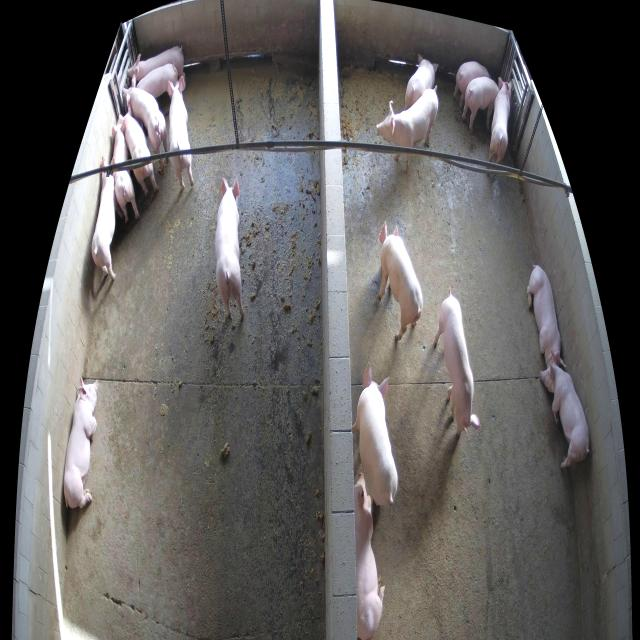pig: (433, 288, 480, 436), (352, 364, 398, 506), (540, 352, 590, 468), (376, 86, 438, 174), (378, 221, 423, 341), (354, 472, 385, 638), (64, 377, 98, 508), (123, 74, 168, 168), (216, 178, 245, 317), (527, 265, 566, 368), (92, 157, 124, 280), (119, 100, 158, 196), (168, 76, 194, 191), (112, 119, 139, 223), (128, 46, 186, 91), (488, 77, 512, 164), (462, 76, 499, 131), (404, 53, 438, 110), (453, 61, 489, 114), (136, 64, 178, 98)
